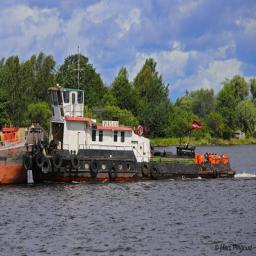tugboat: (30, 84, 239, 189)
